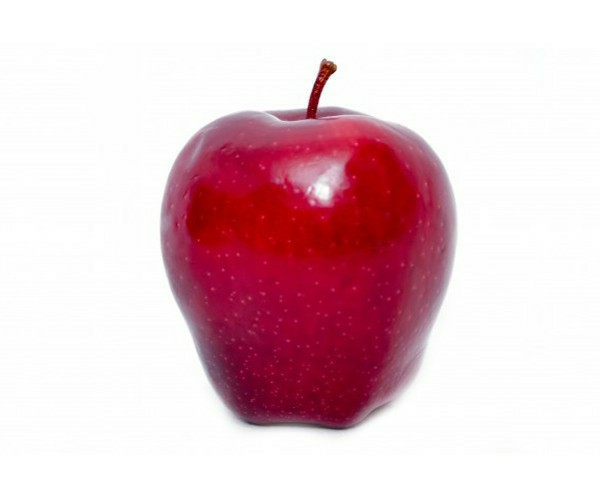fresh_apple: (166, 109, 461, 432)
